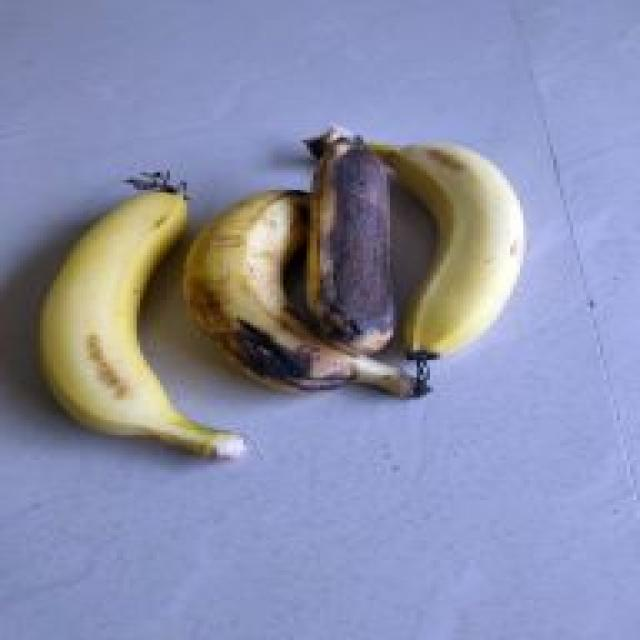Organik: (31, 170, 223, 486), (196, 176, 406, 430), (382, 127, 558, 383), (288, 116, 431, 366)
